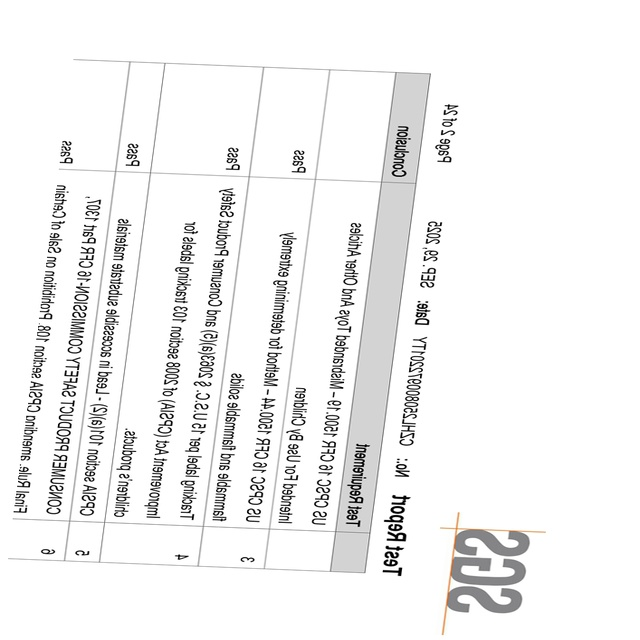sgs: (447, 528, 529, 613)
